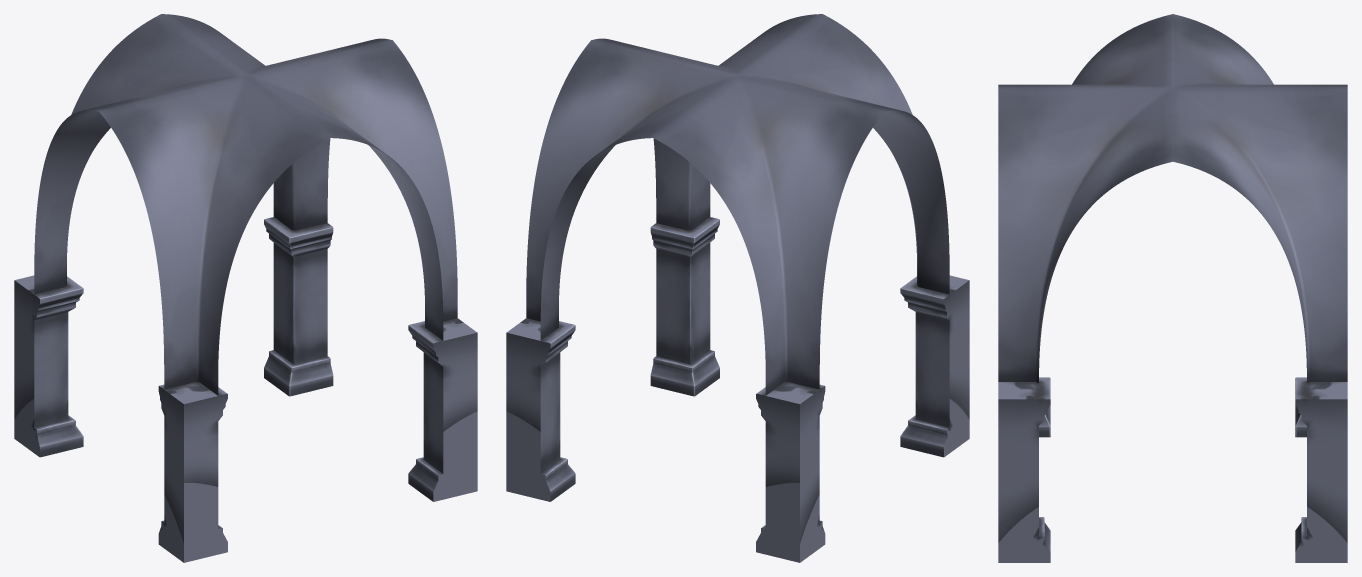
Rendered from Dome.fbx.
The picture shows the model from 3 angles, left to right: view 1: azimuth 30°, elevation 25°; view 2: azimuth 150°, elevation 25°; view 3: azimuth 270°, elevation 25°; orthographic projection. The views are drawn at different scales.
Parts seen in each view (by area): view 1: Dome.003; view 2: Dome.003; view 3: Dome.003.
Part boxes in pixels (bbox=[...]): Dome.003: bbox=[14, 14, 477, 562]; Dome.003: bbox=[506, 14, 969, 562]; Dome.003: bbox=[998, 14, 1347, 562].
Bounding box in the file's own units: 600 × 760 × 600.
